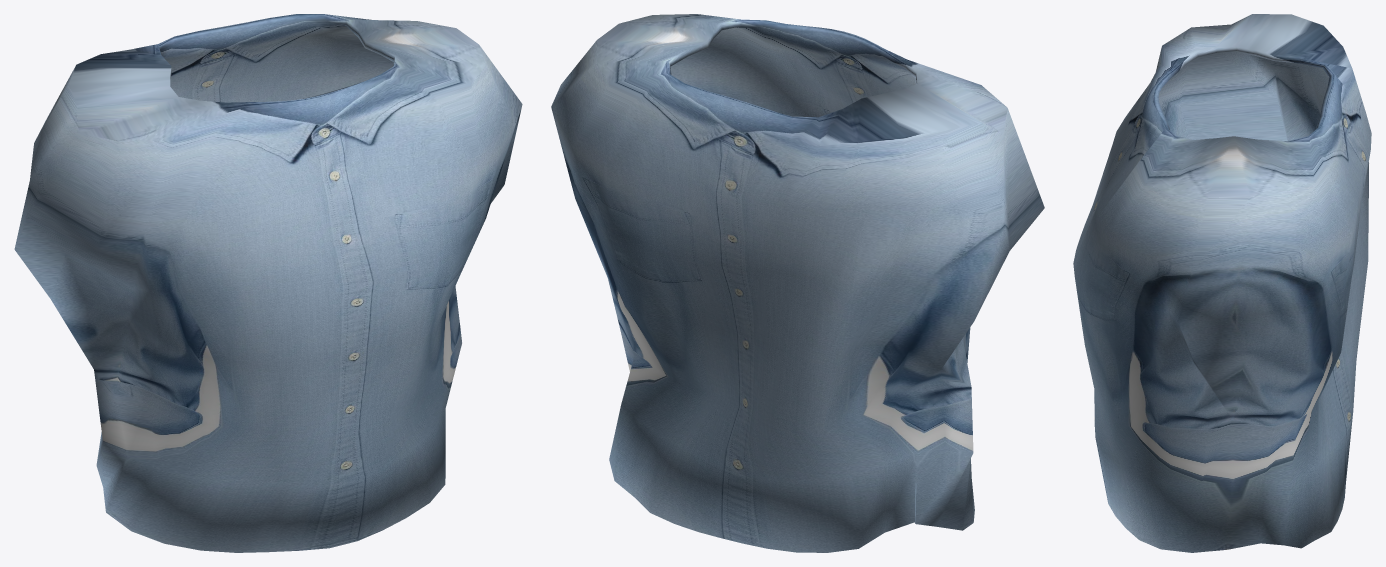
File: 0920ec4f-8ede-49d6-98a7-117becdffae7.glb
3 views of the same model, side by side, from view 1: azimuth 30°, elevation 25°; view 2: azimuth 150°, elevation 25°; view 3: azimuth 270°, elevation 25° (orthographic). The views are drawn at different scales.
Parts seen in each view (by area): view 1: garment; view 2: garment; view 3: garment.
Boxes of the visible parts, left/top/right/bottom form: garment: left=14, top=14, right=522, bottom=552; garment: left=551, top=14, right=1044, bottom=552; garment: left=1073, top=14, right=1371, bottom=552.
Bounding box in the file's own units: 0.5358 × 0.4867 × 0.3252.
Materials: 1 (1 with a texture image).
